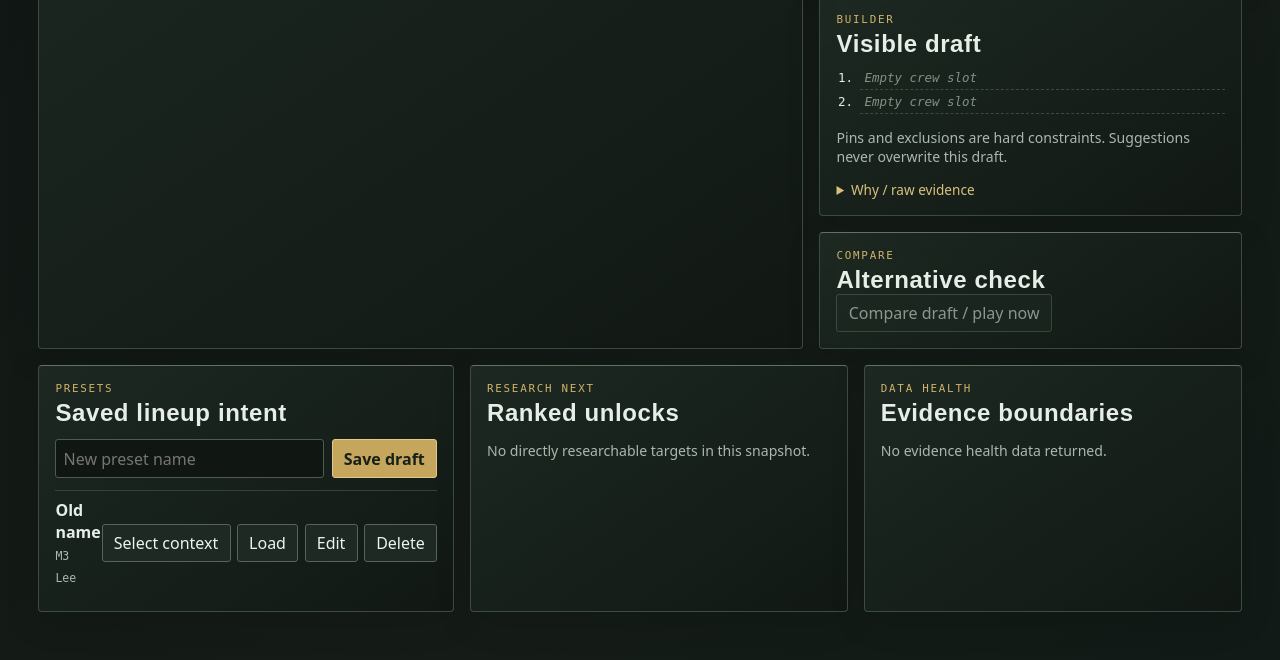
Test: field console › loads a preset into an explicit edit form before saving changes
(page scrolled)
Check: the text "Old name" is shown, box [55,499,95,543]
Click the button "Edit" at (331, 543), box [304,524,358,562]
(page scrolled)
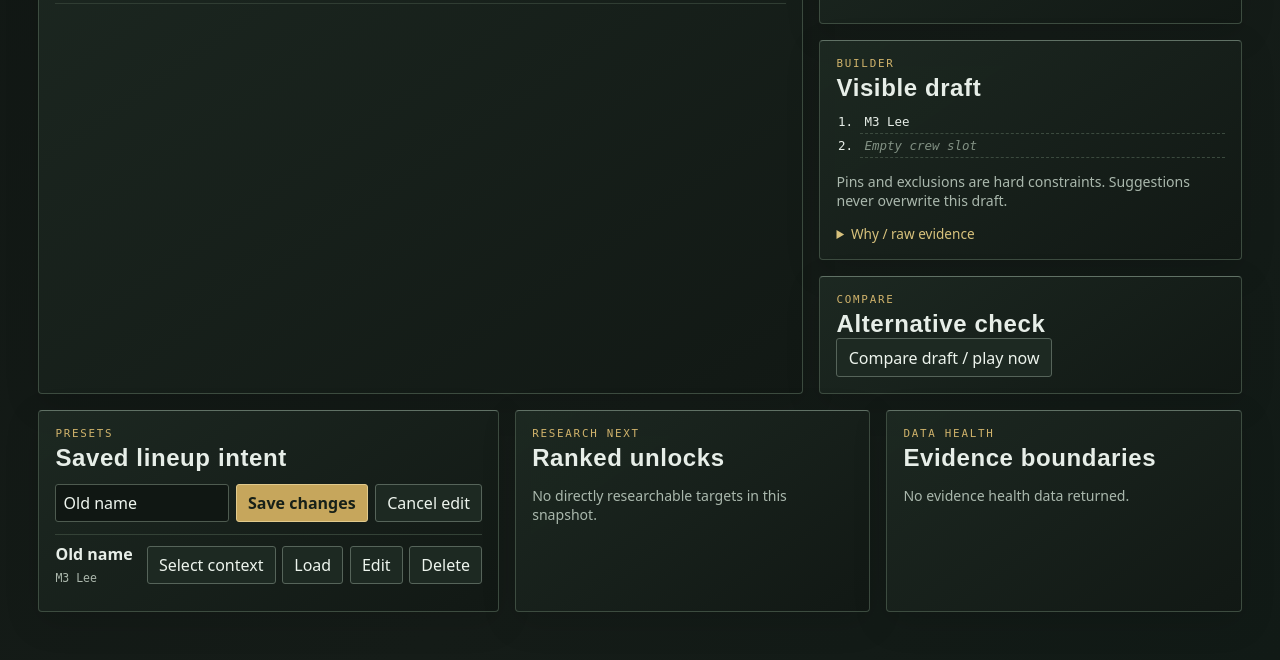
Check: the field named "preset name" holds "Old name"
Replace the text in the field named "preset name" with "Renamed" at (142, 503), box [55,484,229,522]
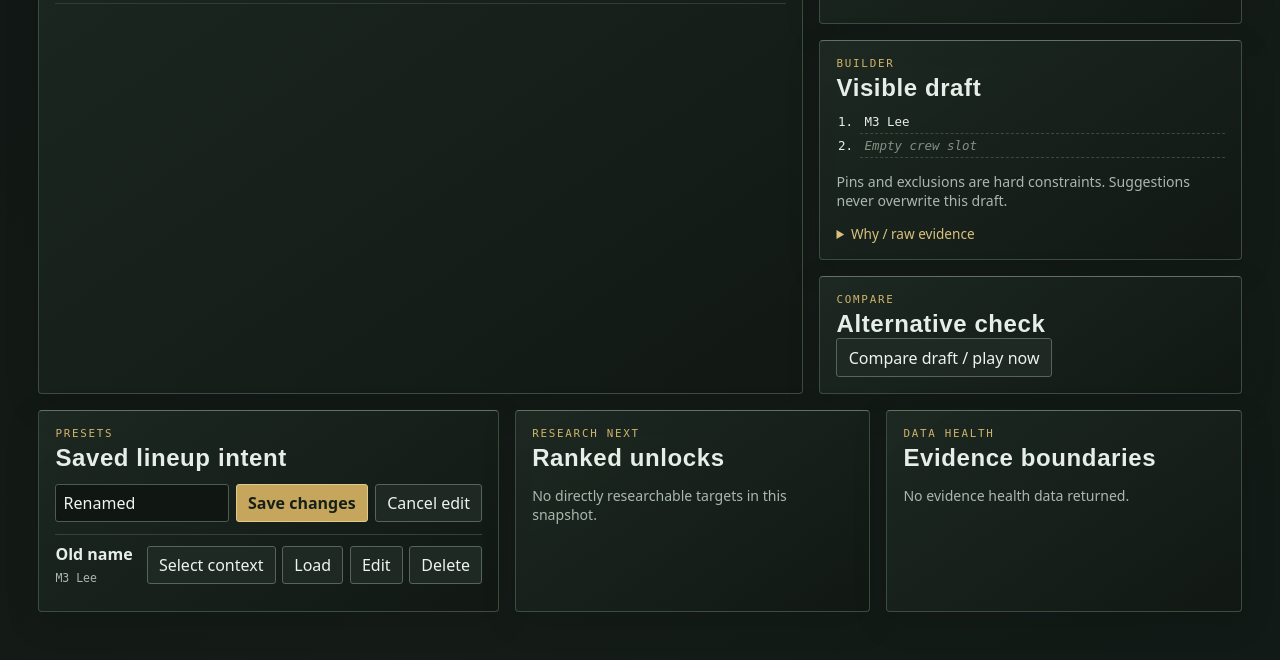
Click the button "Save changes" at (302, 503), box [236,484,368,522]
(page scrolled)
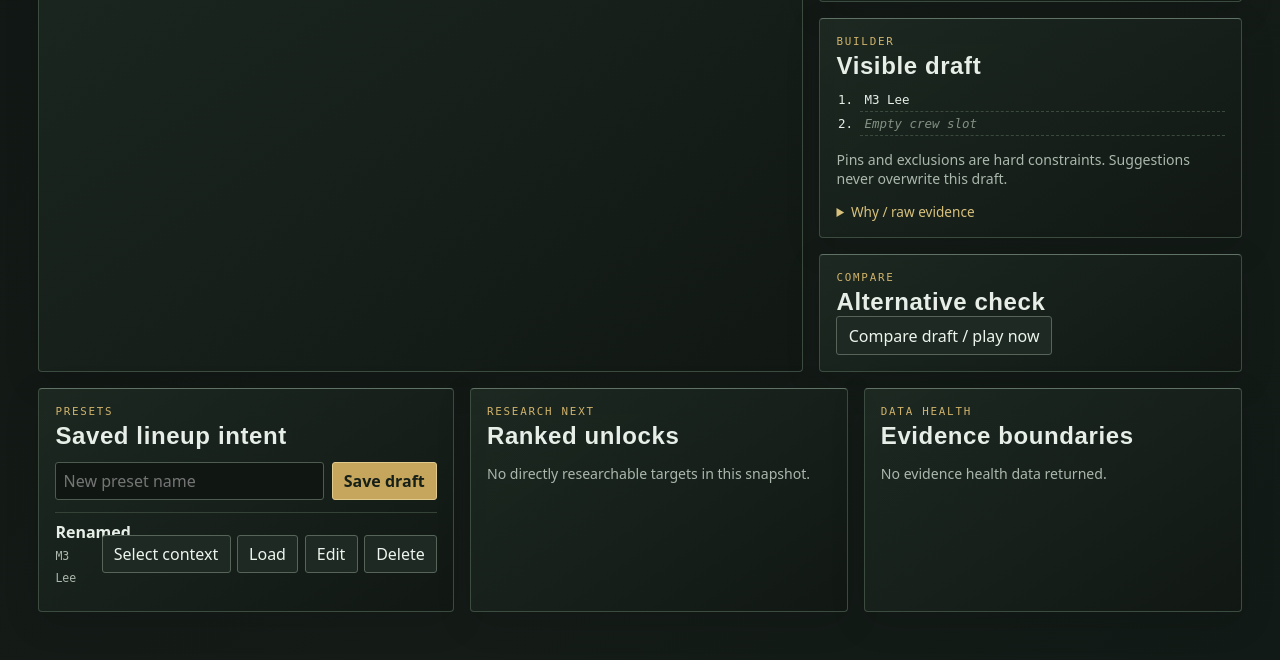
Check: the text "Renamed" is shown, box [55,521,95,543]
